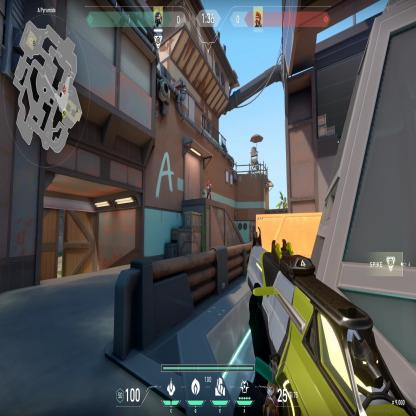enemy: (206, 180, 212, 200)
